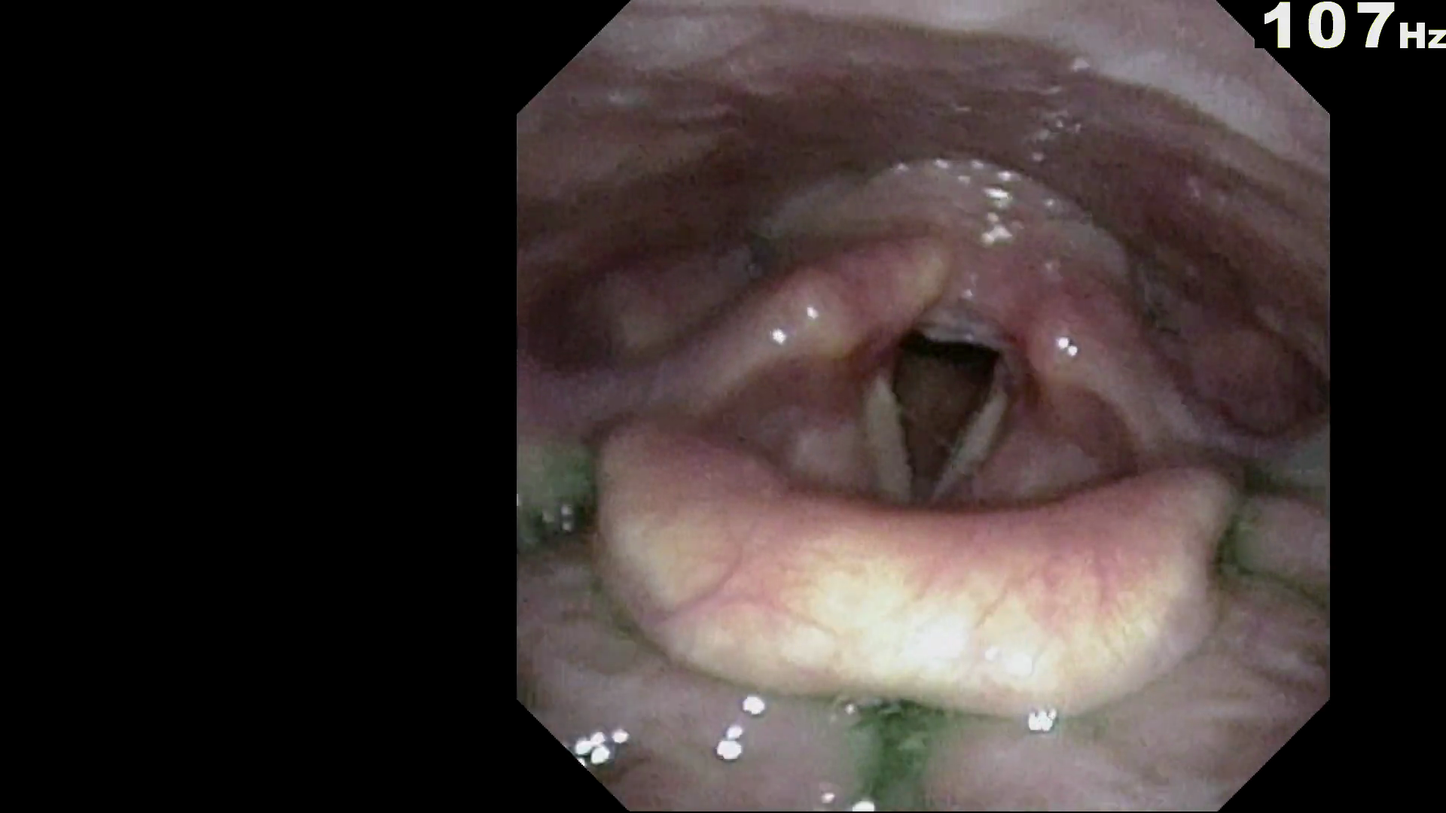epiglottis: (574, 400, 1270, 704), (602, 489, 1226, 761)
trachea: (875, 312, 1013, 518)
